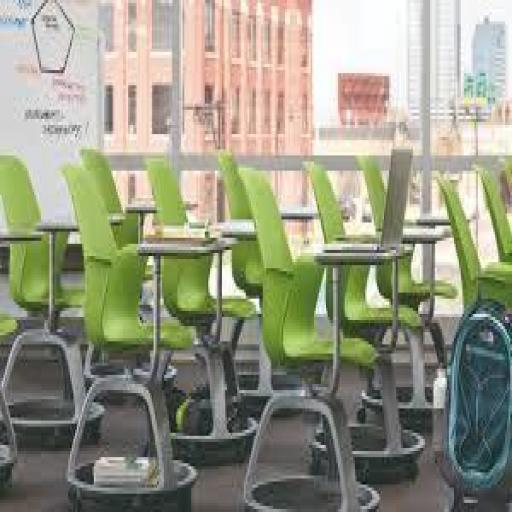chair: (238, 158, 385, 512), (57, 155, 197, 506)
